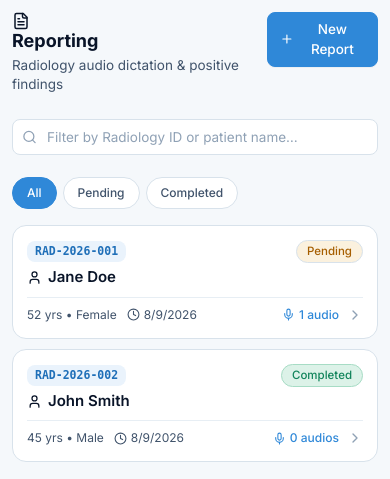
Scenario: Mobile ReportingPage & NewReportModal › filters reports list by status pill selection
This screenshot has width=390, height=479.
Check: the heading "Jane Doe" is shown, box top-left (27, 266), bottom-right (126, 289)
Click the tab "Pending": click(101, 193) top-left (63, 177), bottom-right (140, 209)
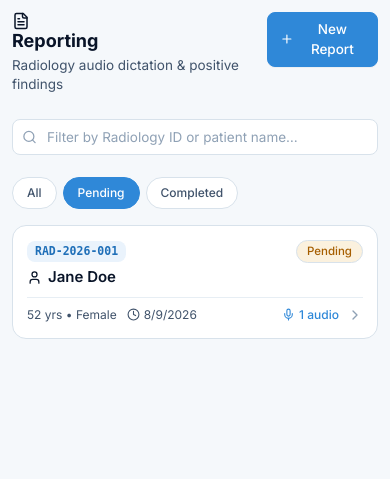
Check: the heading "Jane Doe" is shown, box top-left (27, 266), bottom-right (126, 289)
Check: the list item "John Smith" is gone
